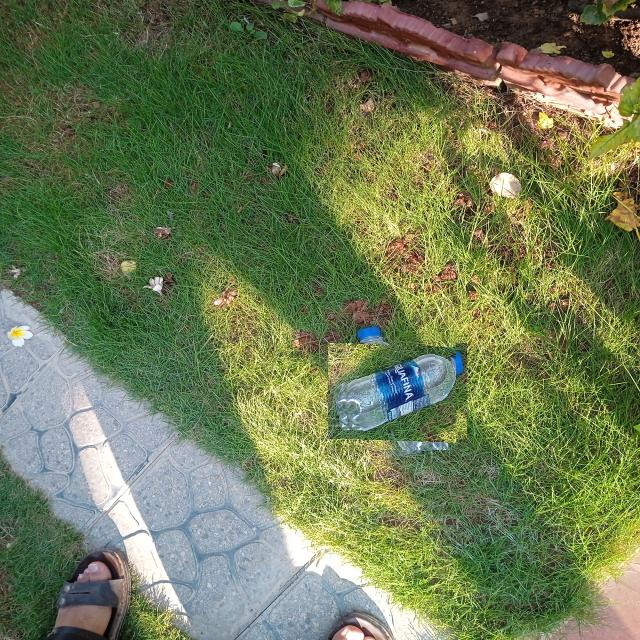Plastic: (338, 332, 456, 450)
